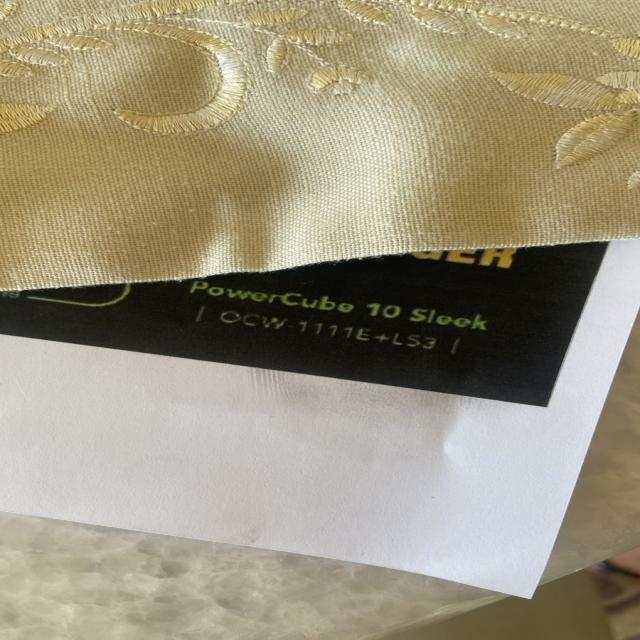PowerCube 10 Sleek OCW-1111ExL53: (186, 273, 498, 361)
